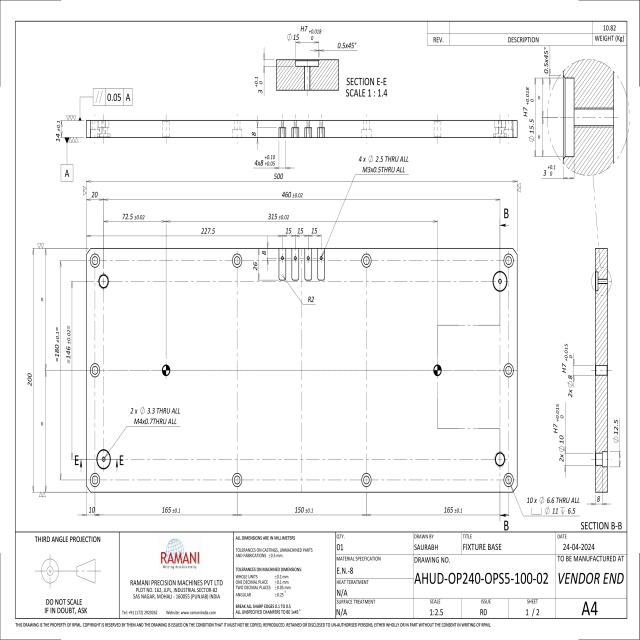dimension: (524, 493, 582, 516), (128, 404, 182, 426), (358, 153, 409, 174), (521, 85, 536, 142), (552, 403, 564, 463), (562, 343, 574, 400), (287, 24, 322, 43), (253, 154, 276, 168), (610, 417, 620, 445), (121, 212, 146, 222), (542, 163, 559, 177), (253, 72, 263, 95), (281, 189, 304, 199), (54, 326, 60, 363), (543, 45, 550, 76), (267, 212, 290, 221), (337, 40, 357, 50), (65, 324, 70, 364), (443, 504, 463, 514), (200, 225, 217, 236), (161, 505, 181, 514), (294, 505, 314, 514), (55, 120, 61, 143), (274, 171, 284, 181), (284, 226, 294, 236), (296, 226, 306, 236), (26, 371, 32, 386), (310, 226, 319, 236), (308, 294, 316, 304), (87, 506, 96, 514), (91, 190, 99, 199), (252, 261, 258, 272), (595, 494, 601, 504), (261, 249, 267, 257), (251, 131, 256, 137)
